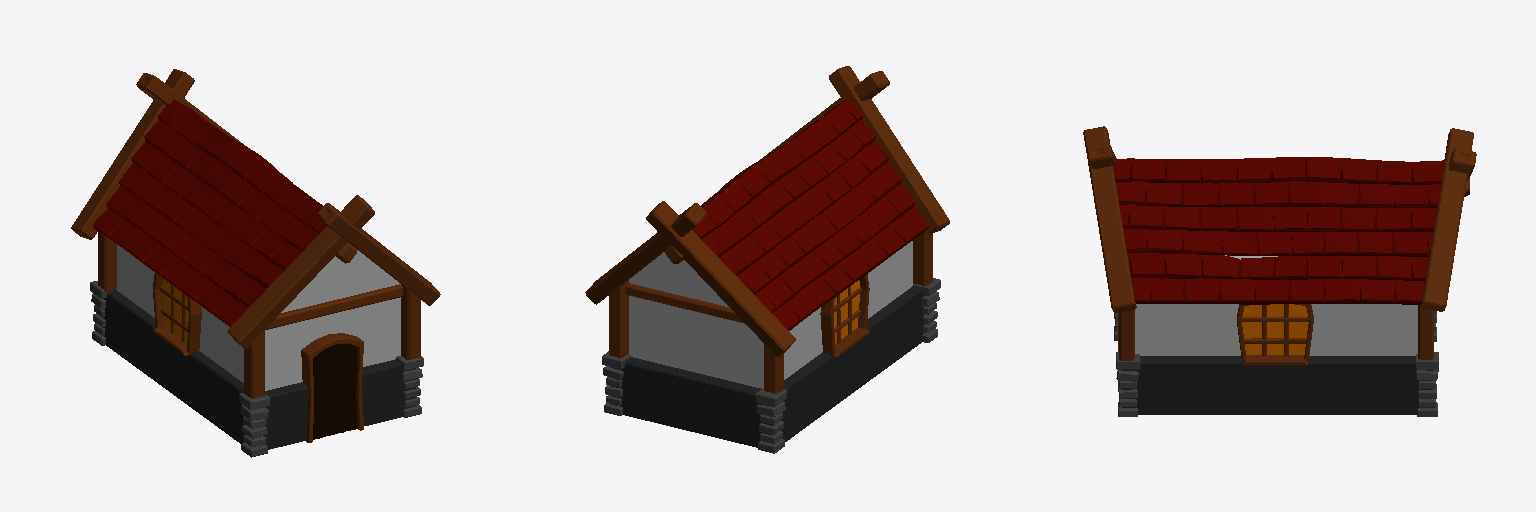
The model's file is house_1.obj.
3 renders of one model, left to right at view 1: azimuth 30°, elevation 25°; view 2: azimuth 150°, elevation 25°; view 3: azimuth 270°, elevation 25°, orthographic.
Visible parts, largest first — view 1: Cube.057_Cube.088, COLLISION_Cube.001, Cube.058_Cube.089; view 2: Cube.057_Cube.088, Cube.058_Cube.089, COLLISION_Cube.001; view 3: Cube.057_Cube.088, Cube.058_Cube.089, COLLISION_Cube.001.
Part boxes in pixels (x1,y1,x2,y2): Cube.057_Cube.088: (71, 69, 440, 449); COLLISION_Cube.001: (117, 246, 400, 390); Cube.058_Cube.089: (90, 281, 423, 457); Cube.057_Cube.088: (585, 66, 949, 447); Cube.058_Cube.089: (602, 278, 940, 453); COLLISION_Cube.001: (629, 243, 912, 387); Cube.057_Cube.088: (1083, 126, 1476, 414); Cube.058_Cube.089: (1114, 311, 1438, 416); COLLISION_Cube.001: (1135, 255, 1417, 354).
Bounding box in the file's own units: 4.86 × 5.56 × 8.18.